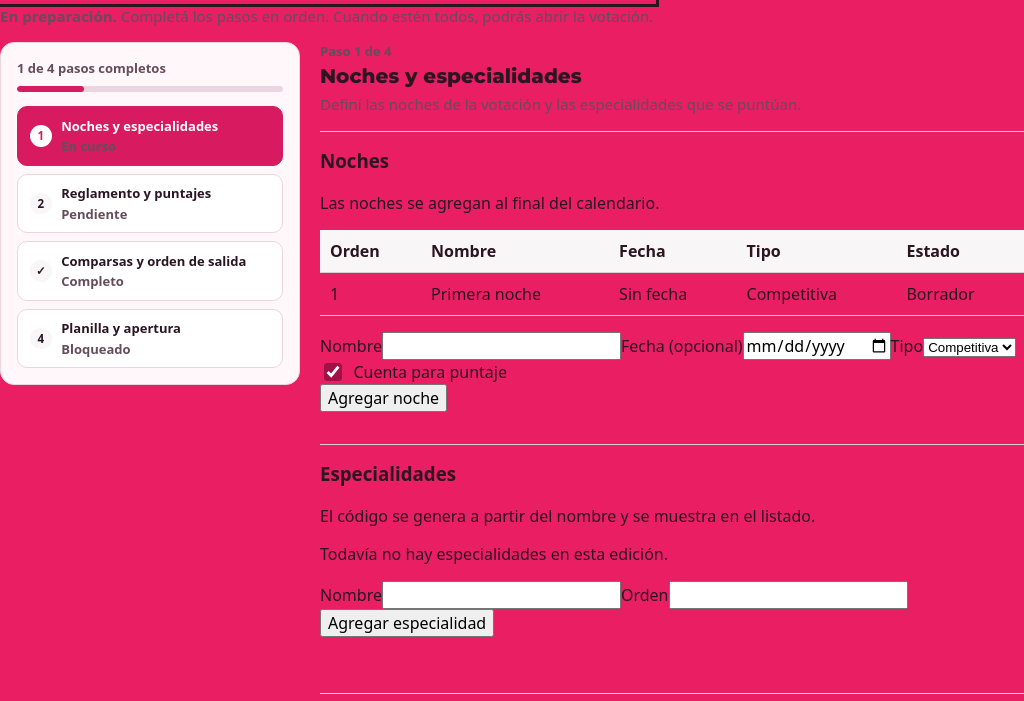
it: Etapa 3 (subtab Orden de salida) reorders comparsas for a DRAFT night and saves after modal confirmation
expect the text "Primera noche" is shown: met, box [421, 272, 609, 316]
Click the button "✓ Comparsas y orden de salida Completo" at [150, 271], box [17, 241, 283, 301]
(page scrolled)
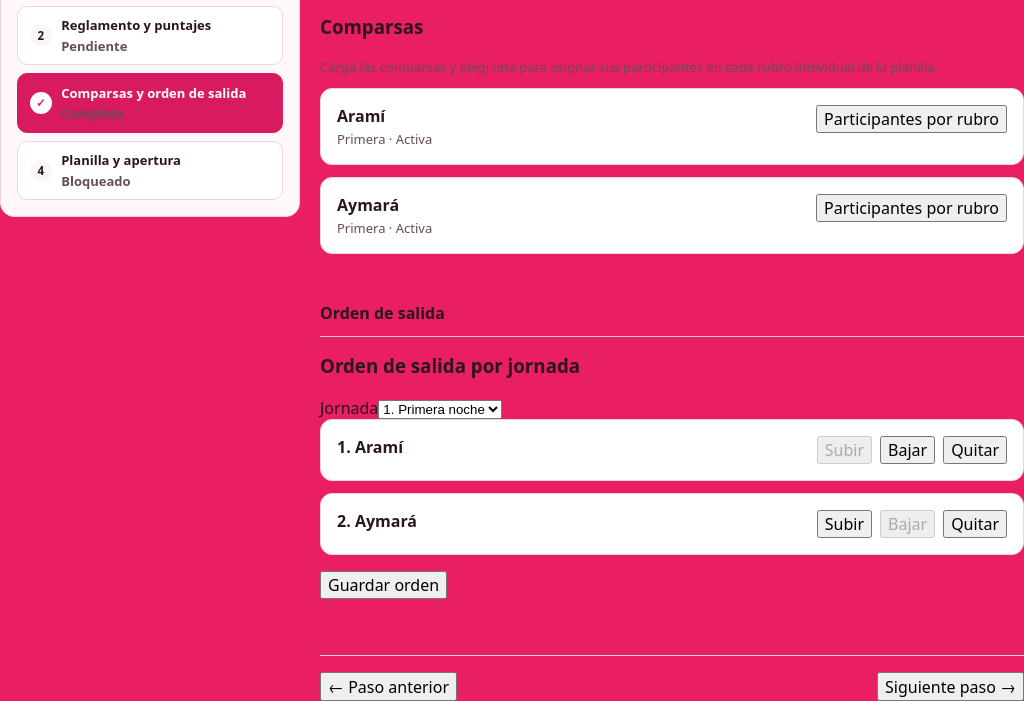
expect the heading "1. Aramí" is shown: met, box [337, 436, 403, 458]
Click the button with aria-label "Subir Aymará" at [844, 524], box [817, 510, 872, 538]
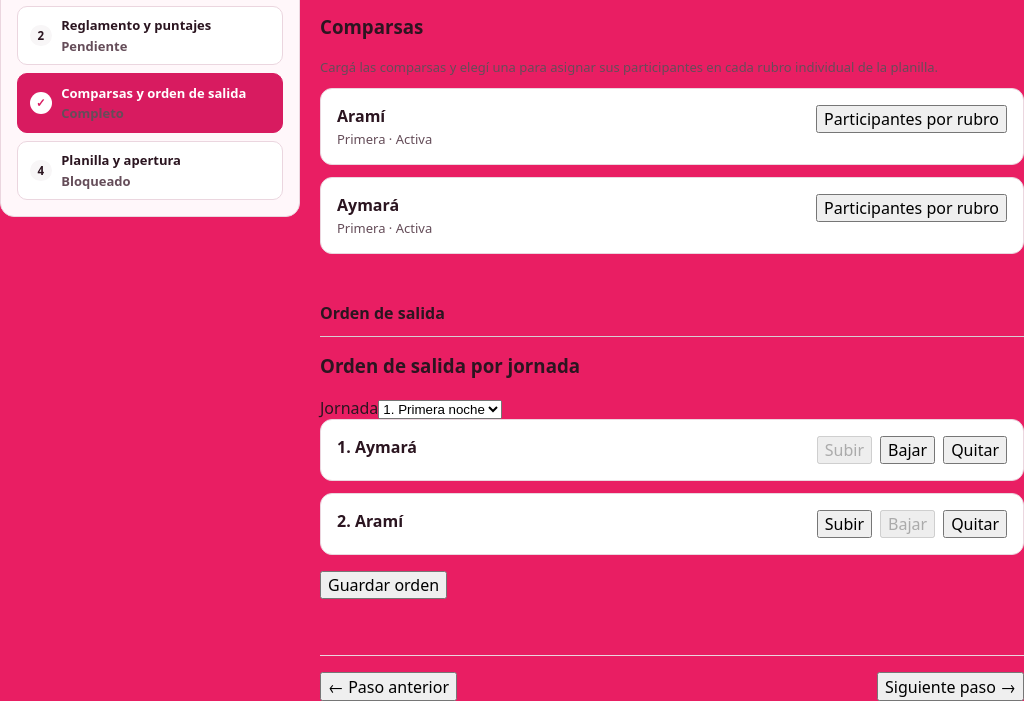
expect the heading "1. Aymará" is shown: met, box [337, 436, 417, 458]
Click the button "Guardar orden" at [384, 585], box [320, 571, 447, 599]
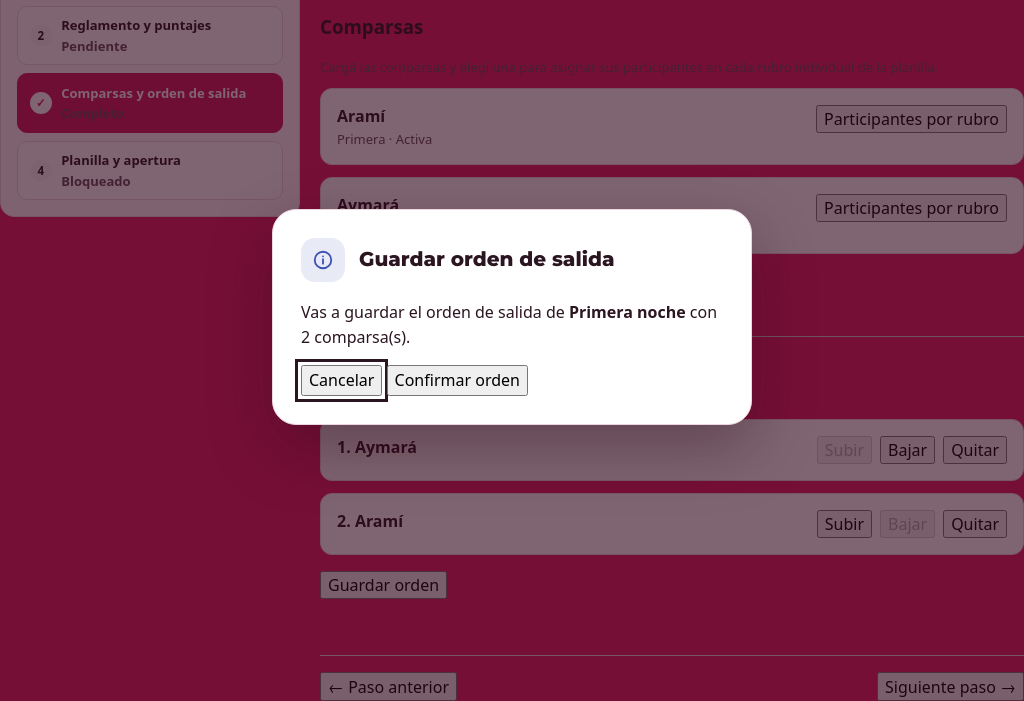
Click the button "Confirmar orden" at [457, 381], box [387, 365, 528, 396]
(page scrolled)
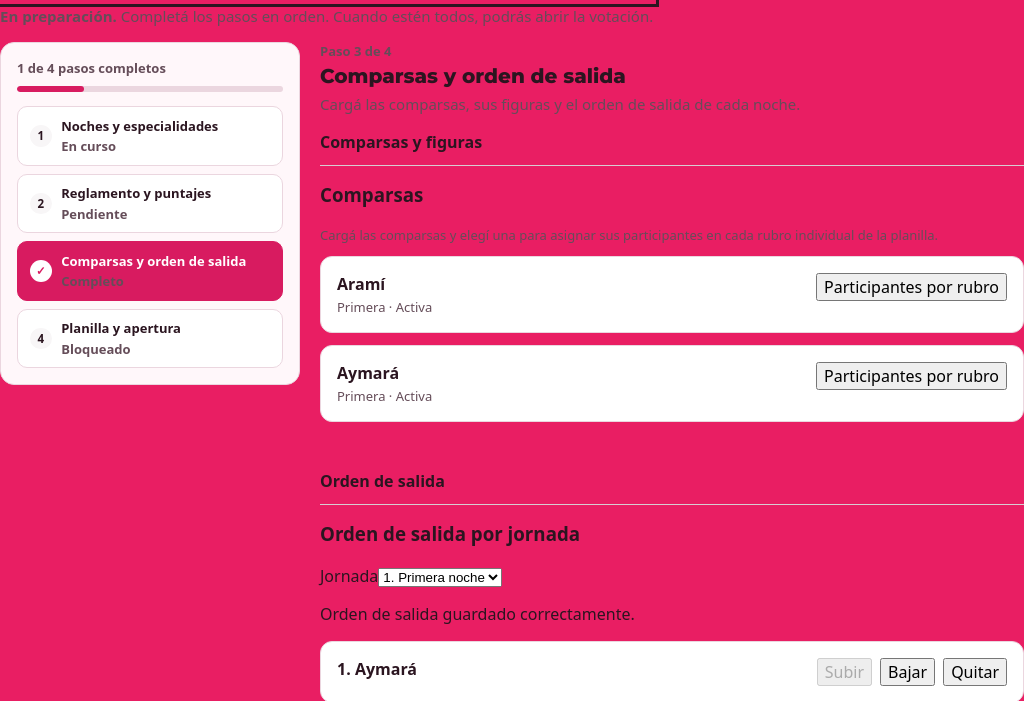
expect the text "Orden de salida guardado correctamente." is shown: met, box [320, 603, 635, 625]
